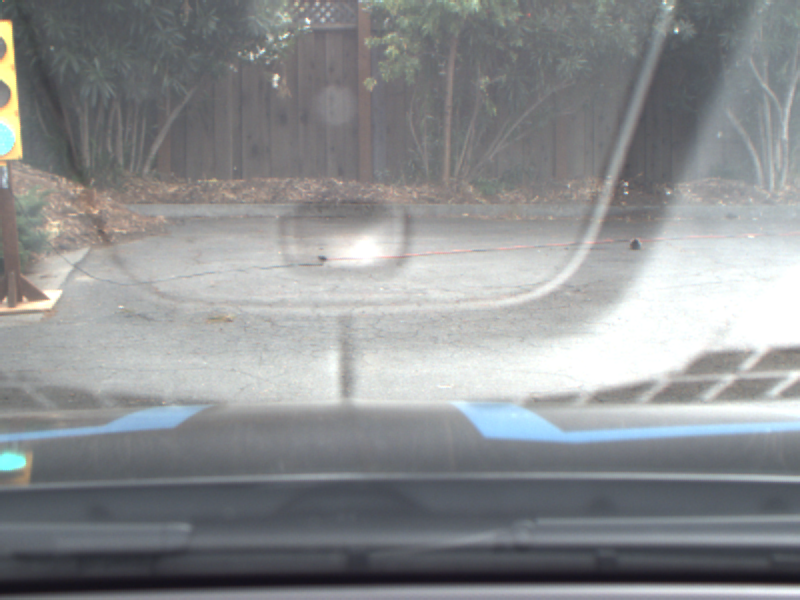green: (1, 20, 25, 161)
